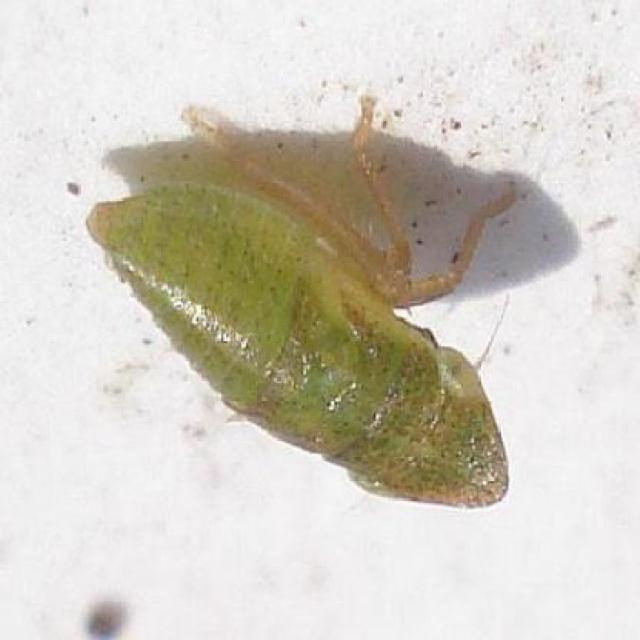green-leafhopper: (95, 108, 514, 503)
